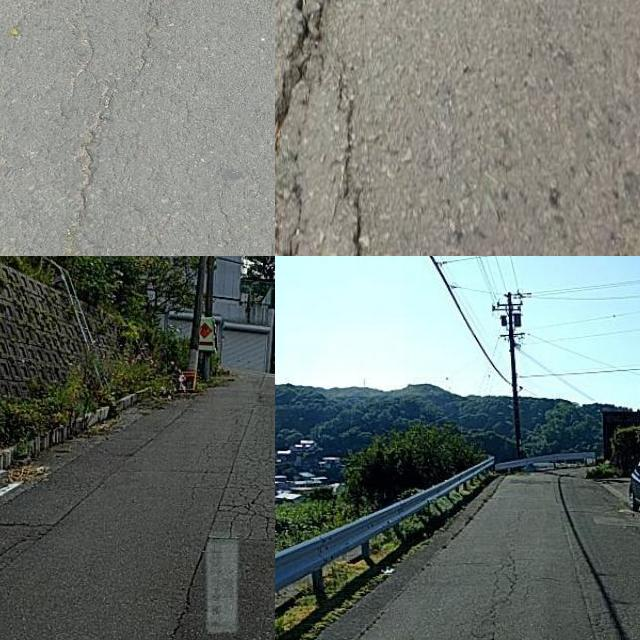Memanjang: (150, 398, 270, 640), (275, 0, 322, 256), (330, 62, 382, 256)
